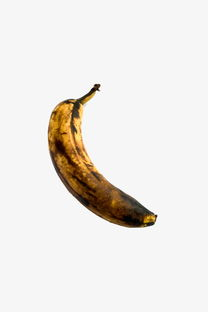Other: (48, 84, 157, 228)
